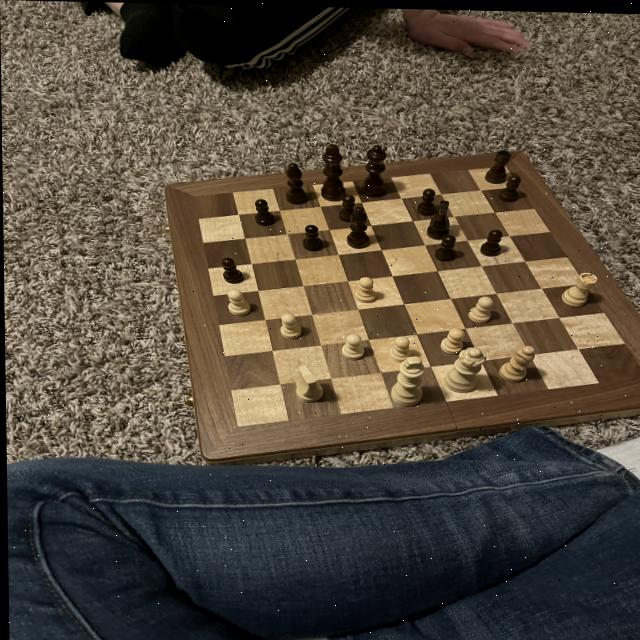bishop: (282, 161, 312, 206), (345, 204, 374, 249)
black-bishop: (317, 143, 350, 202)
black-king: (423, 198, 455, 238)
black-knight: (249, 197, 278, 227), (300, 220, 325, 253), (433, 231, 458, 263), (497, 172, 522, 203), (477, 227, 504, 255), (219, 255, 243, 284), (414, 185, 436, 216), (338, 193, 358, 221)
black-pawn: (358, 143, 390, 200)
black-queen: (483, 147, 513, 183)
black-rook: (496, 343, 538, 383)
white-bishop: (383, 353, 426, 410)
white-king: (289, 362, 326, 405)
white-knight: (222, 287, 254, 319), (436, 323, 470, 353), (461, 292, 495, 322), (337, 332, 369, 361), (387, 332, 416, 363), (353, 273, 380, 304), (276, 311, 302, 340)
white-pawn: (438, 342, 488, 392)
white-queen: (557, 267, 601, 309)
